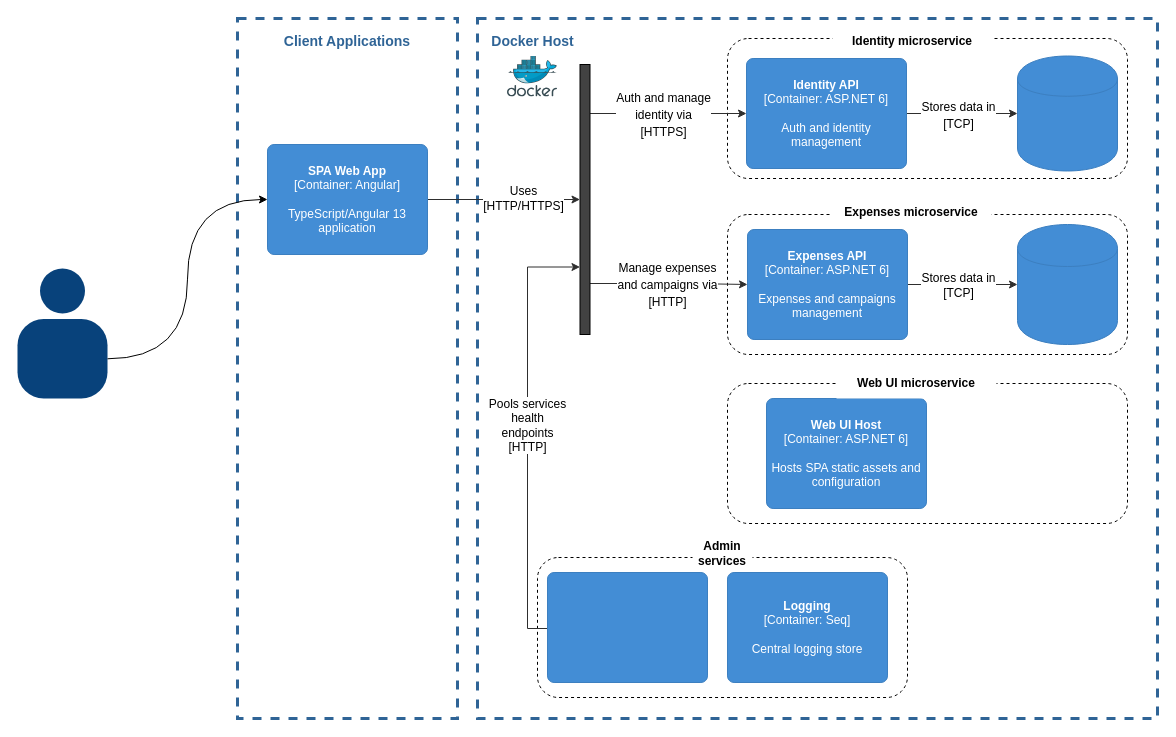
Some shapes in this 1176 by 737 pixel diagram are drawn without their labels. The shapes that lost their labels are listed below. From the top down, each one's box as (x1, y1, x2, y2) in pixels, then its label:
(1016, 55, 1118, 171): Identity Db [Container: MS SQL]
(1016, 224, 1118, 344): Expenses Db [Container: MS SQL]
(16, 318, 108, 398): User [Person] Public user
(546, 572, 708, 682): Web Status UI [Container: ASP.NET 6 ] Shows status of the services running
